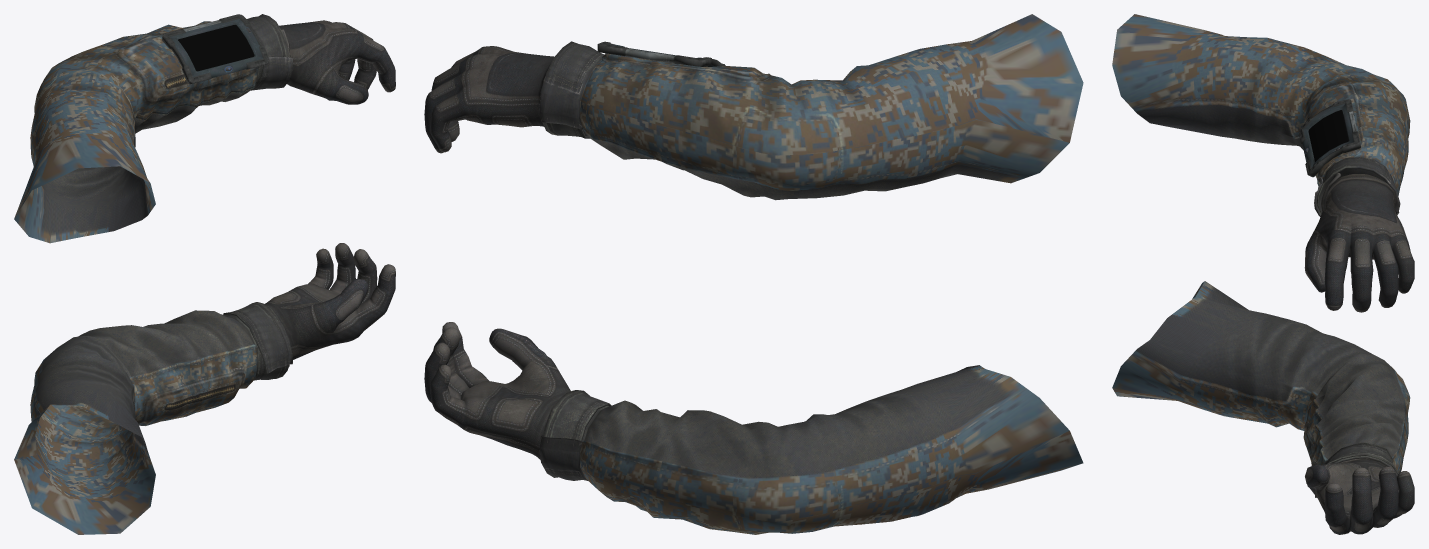
The model's file is c_usa_mp_seal6_longsleeve_viewhands_LOD0.obj.
3 views of the same model, side by side, from view 1: azimuth 30°, elevation 25°; view 2: azimuth 150°, elevation 25°; view 3: azimuth 270°, elevation 25° (orthographic). The views are drawn at different scales.
Parts seen in each view (by area): view 1: mtl_viewarm_usa_mp_seal6_longsleeve, mtl_viewarm_gen_datapad, mtl_viewarm_watchglass; view 2: mtl_viewarm_usa_mp_seal6_longsleeve, mtl_viewarm_gen_datapad; view 3: mtl_viewarm_usa_mp_seal6_longsleeve, mtl_viewarm_gen_datapad, mtl_viewarm_watchglass.
Part boxes in pixels (x1,y1,x2,y2): mtl_viewarm_usa_mp_seal6_longsleeve: (14, 14, 395, 534); mtl_viewarm_gen_datapad: (162, 14, 269, 84); mtl_viewarm_watchglass: (178, 25, 254, 71); mtl_viewarm_usa_mp_seal6_longsleeve: (424, 14, 1083, 534); mtl_viewarm_gen_datapad: (597, 41, 725, 66); mtl_viewarm_usa_mp_seal6_longsleeve: (1112, 14, 1414, 534); mtl_viewarm_gen_datapad: (1298, 99, 1360, 177); mtl_viewarm_watchglass: (1308, 110, 1348, 161).
Size of the model in its own units: 68.63 by 56.24 by 39.9.
